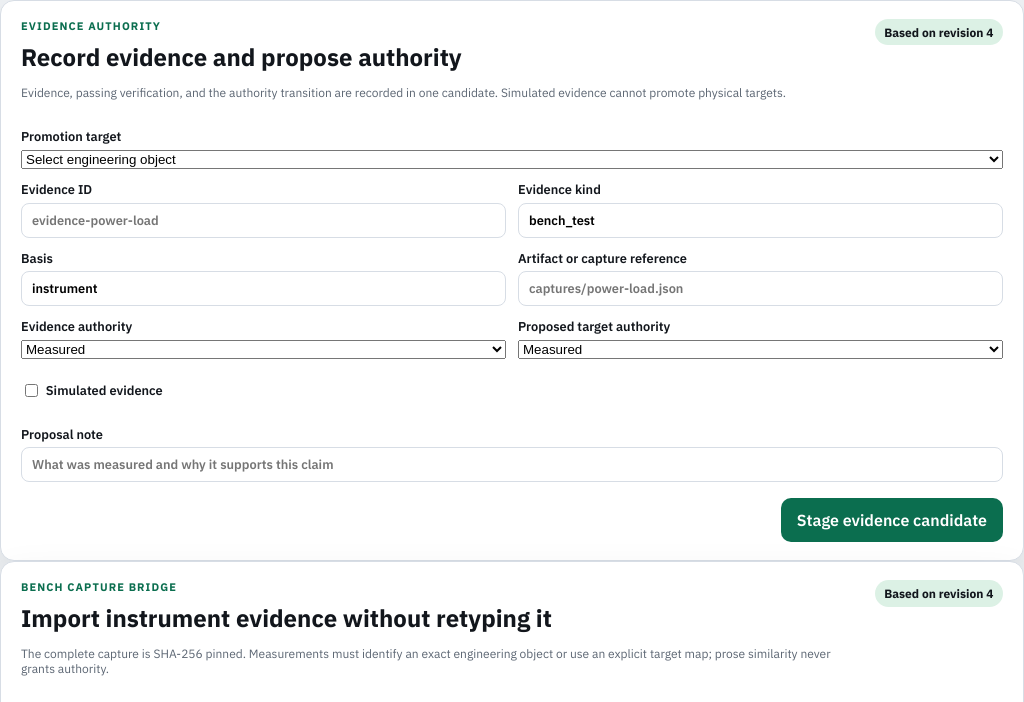
Test: MachineEvidencePanel › records physical evidence and stages the authority candidate
Select "Battery · component · current declared" in the dropdown labelled "Promotion target": (512, 159) [21,150,1003,169]
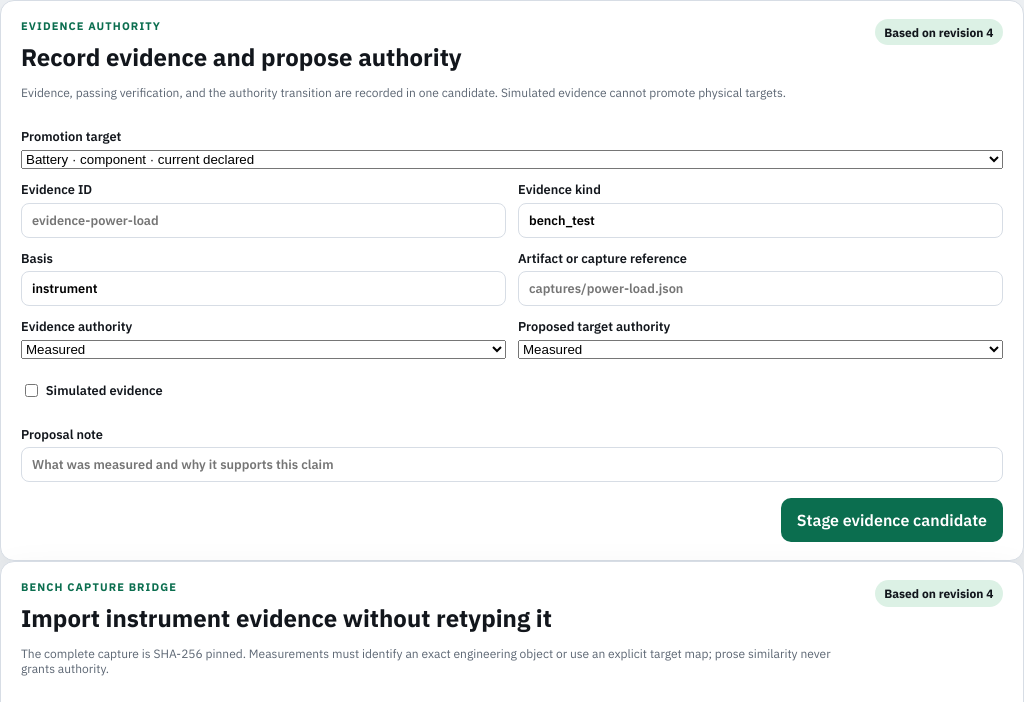
In the field labelled "Evidence ID": (264, 220) [21,203,506,238], type "battery-voltage"
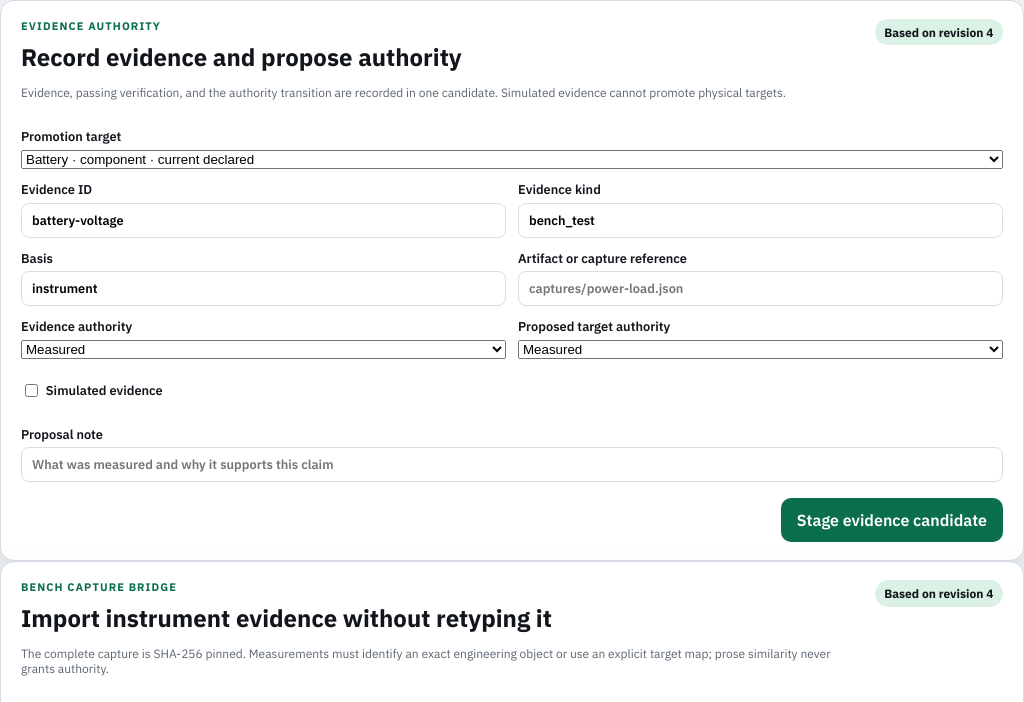
In the field labelled "Evidence kind": (760, 220) [518,203,1003,238], type "multimeter_capture"
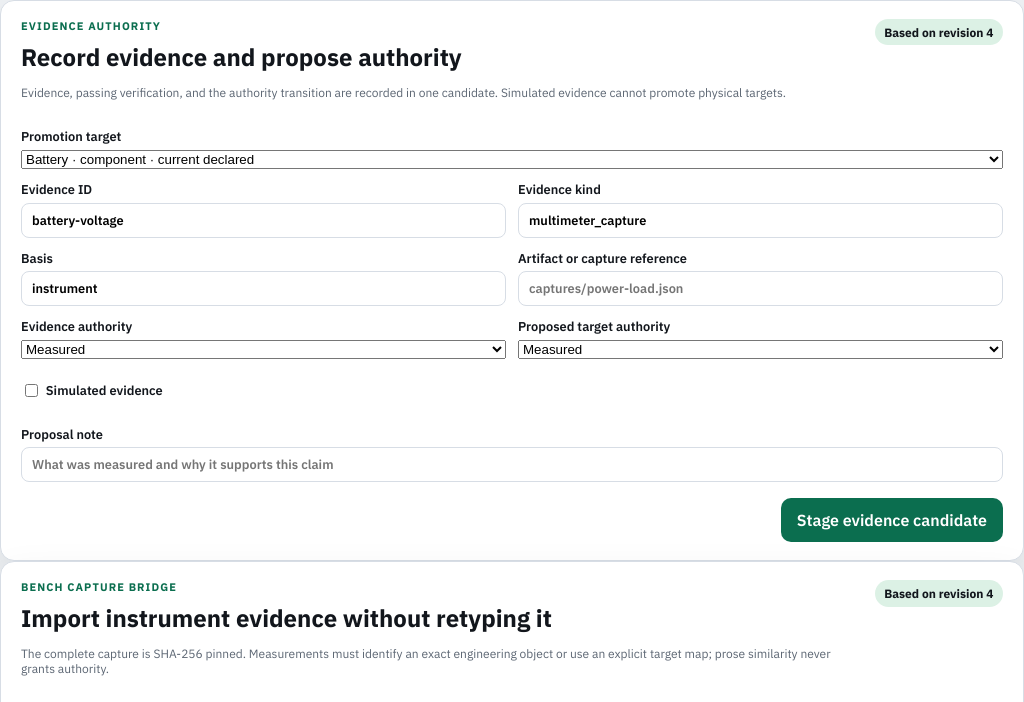
Click the button "Stage evidence candidate": click(892, 520) [781,498,1003,542]
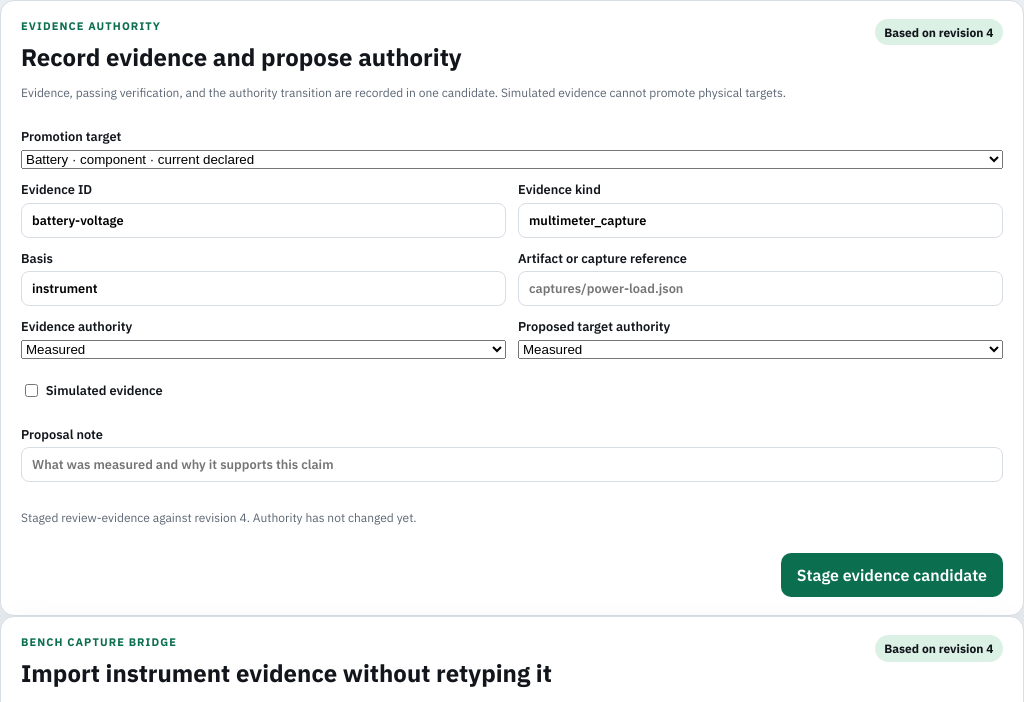
Now the text with test id "machine-evidence-staged" shows "review-evidence", box [61,510,150,525]
